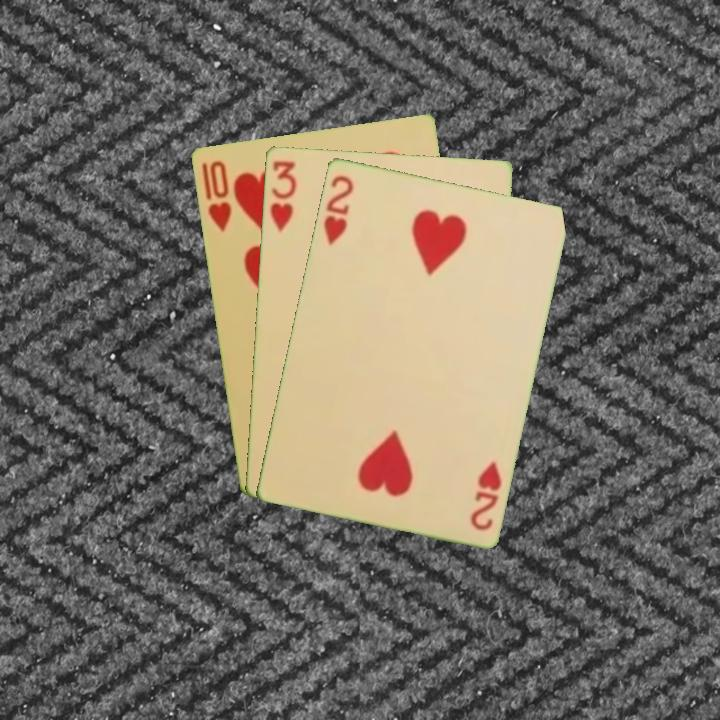10h: (198, 157, 234, 234)
2h: (466, 458, 504, 533), (319, 171, 356, 248)
3h: (266, 157, 299, 234)
